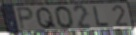2: (73, 4, 94, 31), (112, 4, 130, 28)
L: (92, 6, 111, 27)
O: (53, 5, 75, 30)
P: (15, 6, 35, 31)
Q: (35, 6, 58, 30)
